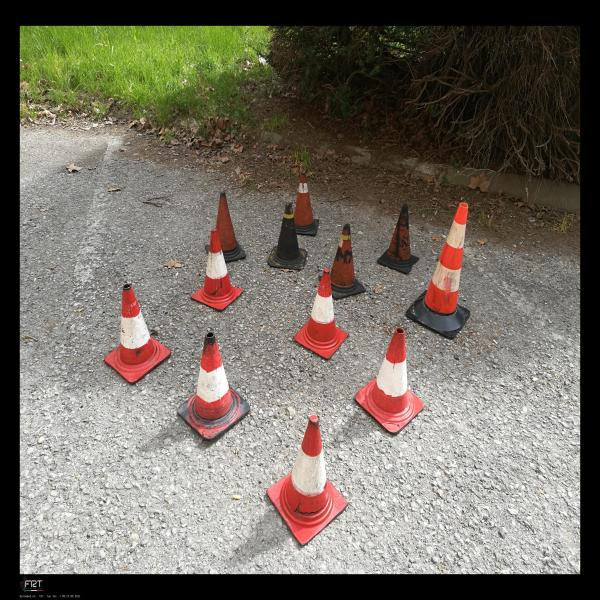large_orange_cone: (406, 203, 470, 339)
orange_cone: (266, 415, 348, 546), (177, 332, 250, 440), (355, 328, 424, 434), (104, 284, 171, 384), (293, 269, 349, 360), (191, 228, 244, 310)
unknown_cone: (318, 224, 366, 298), (204, 192, 247, 262), (377, 204, 419, 274), (268, 200, 308, 270), (294, 172, 319, 236)
